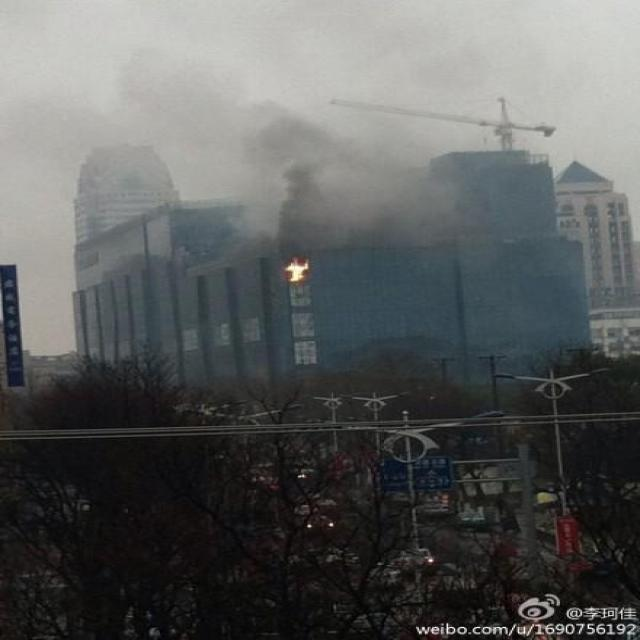Fire: (284, 258, 312, 284)
Smoke: (110, 50, 494, 252)
